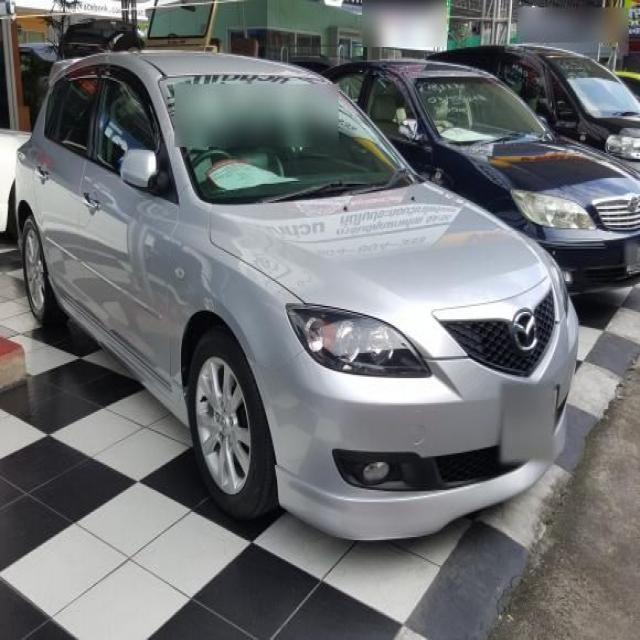back_right_door: (32, 65, 104, 317)
front_bumper: (256, 277, 580, 541)
front_glass: (159, 74, 425, 204)
front_left_light: (549, 254, 568, 311)
front_right_door: (79, 63, 182, 385)
front_right_light: (285, 302, 433, 377)
hood: (210, 180, 566, 359)
right_mirror: (121, 147, 170, 195)
trunk: (189, 323, 278, 516)
wheel: (22, 214, 71, 325)
